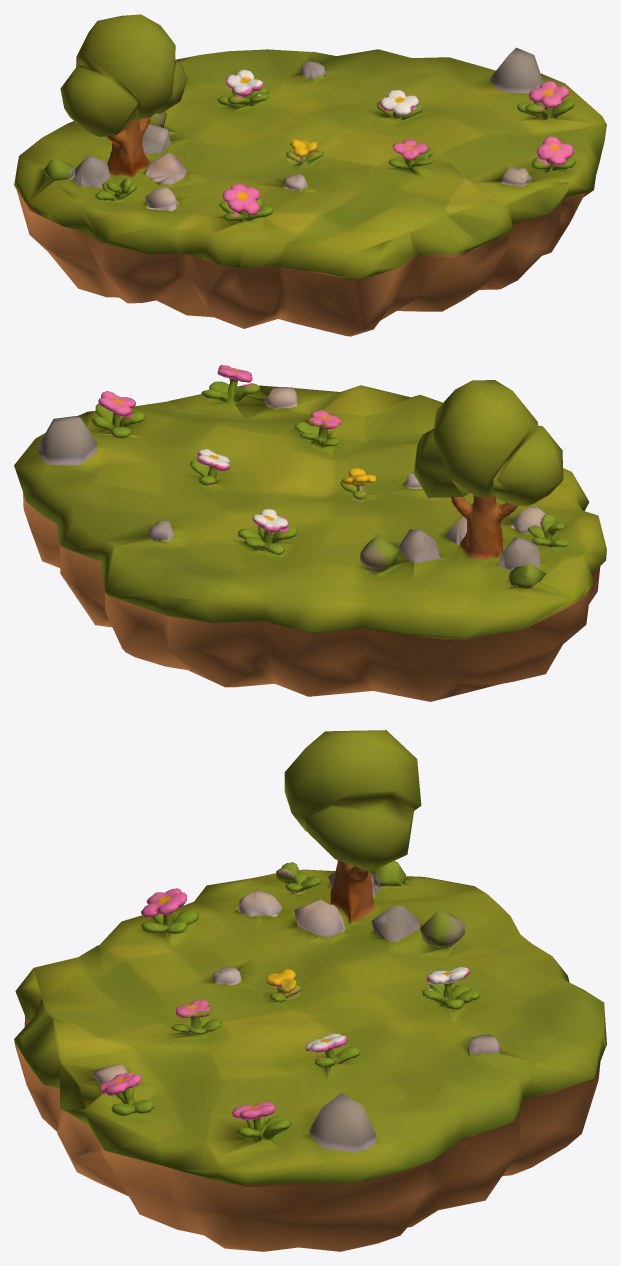
The model's file is island_bottom.glb.
3 renders of one model, top to bottom at view 1: azimuth 30°, elevation 25°; view 2: azimuth 150°, elevation 25°; view 3: azimuth 270°, elevation 25°, orthographic. The views are drawn at different scales.
Visible parts, largest first — view 1: tripo_node_33161da1-40ba-4b90-8562-d1e99287dc52; view 2: tripo_node_33161da1-40ba-4b90-8562-d1e99287dc52; view 3: tripo_node_33161da1-40ba-4b90-8562-d1e99287dc52.
Part boxes in pixels (x1,y1,x2,y2): tripo_node_33161da1-40ba-4b90-8562-d1e99287dc52: [14, 14, 606, 336]; tripo_node_33161da1-40ba-4b90-8562-d1e99287dc52: [14, 365, 606, 701]; tripo_node_33161da1-40ba-4b90-8562-d1e99287dc52: [14, 730, 606, 1251].
Size of the model in its own units: 0.978 by 0.4689 by 0.8134.
1 material, 1 textured.
